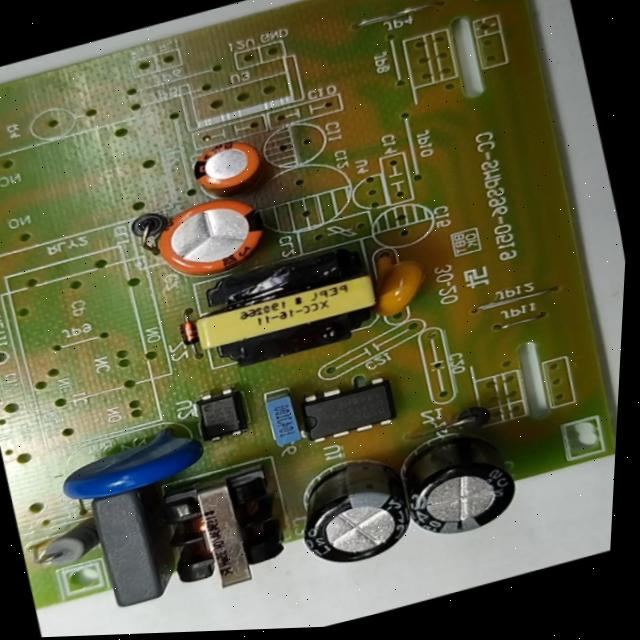Cap1: (134, 179, 284, 297)
Cap2: (175, 122, 284, 207)
Cap3: (278, 436, 433, 581)
Cap4: (376, 407, 533, 552)
MOSFET: (281, 366, 409, 454)
Mov: (45, 414, 222, 512)
Resistor: (23, 511, 110, 577)
Transformer: (173, 233, 394, 383), (145, 456, 299, 605)
